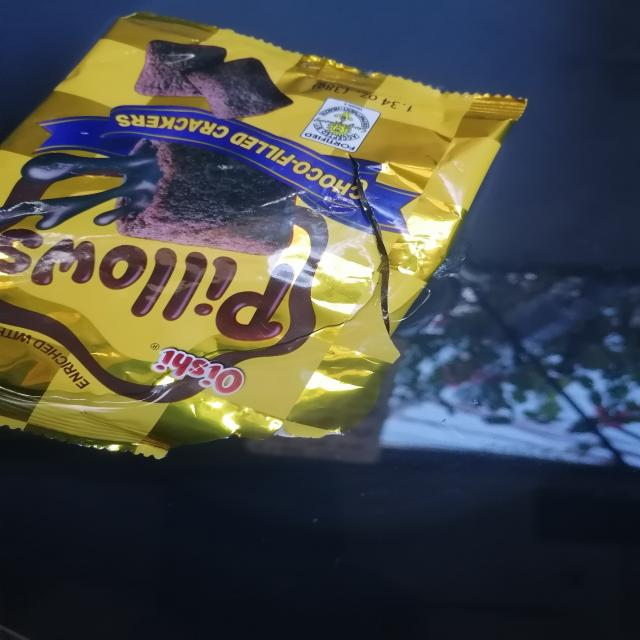Plastic Wrapper: (0, 12, 527, 459)
